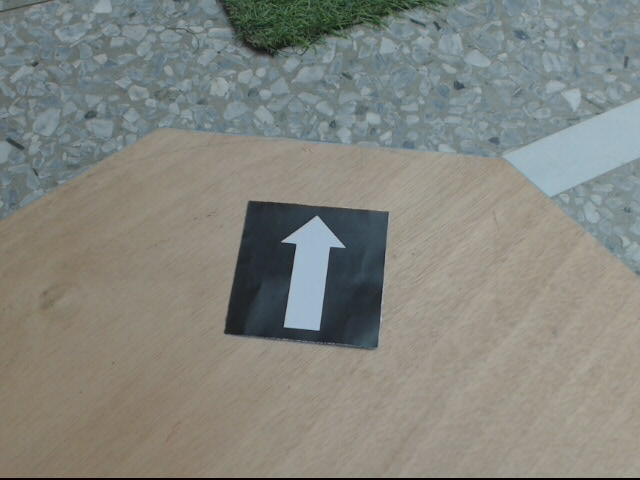straight: (222, 198, 391, 350)
